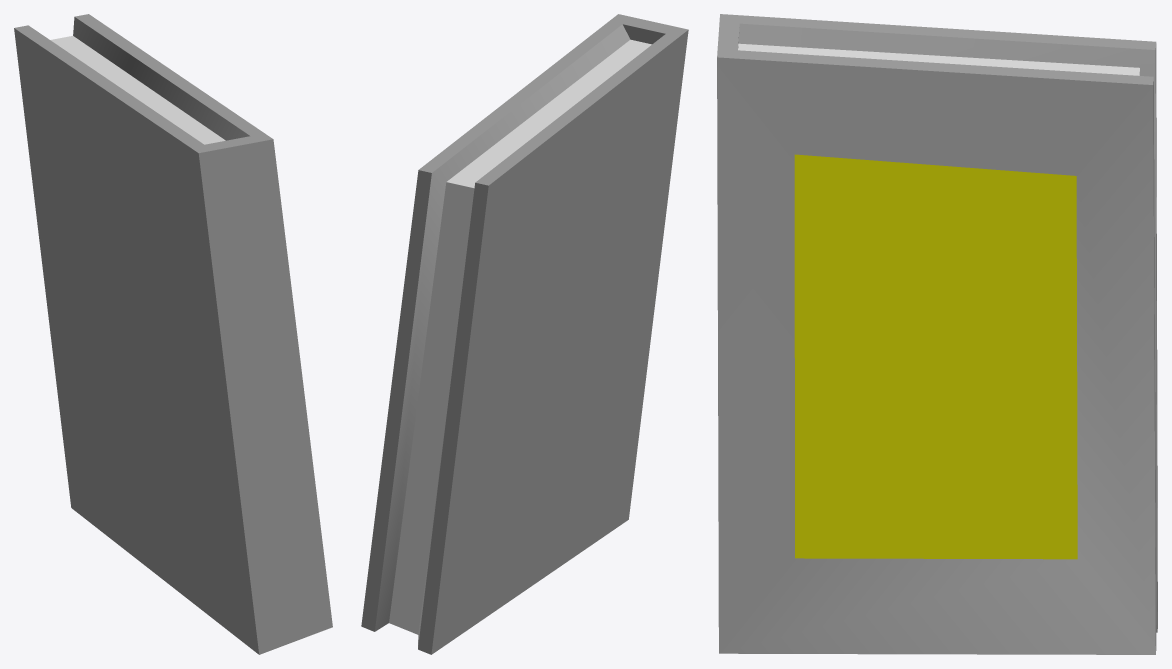
File: Book.fbx
The picture shows the model from 3 angles, left to right: view 1: azimuth 30°, elevation 25°; view 2: azimuth 150°, elevation 25°; view 3: azimuth 270°, elevation 25°; orthographic projection. The views are drawn at different scales.
Parts seen in each view (by area): view 1: Book; view 2: Book; view 3: Book.
Part boxes in pixels (box(x1,y1,x2,y2)): Book: box(14, 14, 332, 654); Book: box(361, 14, 688, 654); Book: box(717, 14, 1157, 654).
Size of the model in its own units: 11.19 by 39.22 by 27.08.
